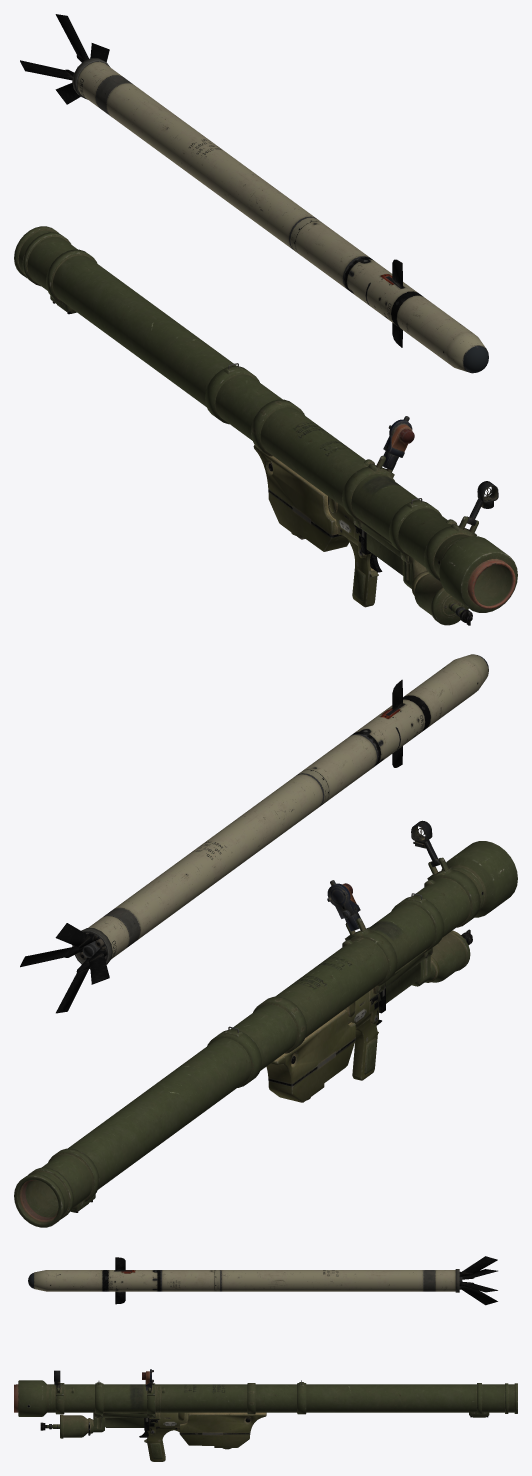
Rendered from 9K32 Strela missile launcher.fbx.
The picture shows the model from 3 angles, top to bottom: view 1: azimuth 30°, elevation 25°; view 2: azimuth 150°, elevation 25°; view 3: azimuth 270°, elevation 25°; orthographic projection. The views are drawn at different scales.
Visible parts, largest first — view 1: desirefx.me_001, desirefx.me_012, desirefx.me_003; view 2: desirefx.me_001, desirefx.me_012, desirefx.me_003, desirefx.me_004; view 3: desirefx.me_001, desirefx.me_012, desirefx.me_005, desirefx.me_007.
Part boxes in pixels (<box>): desirefx.me_001: <box>14,226,517,625</box>; desirefx.me_012: <box>72,58,488,373</box>; desirefx.me_003: <box>380,416,414,470</box>; desirefx.me_001: <box>14,841,517,1227</box>; desirefx.me_012: <box>72,654,488,968</box>; desirefx.me_003: <box>327,880,361,931</box>; desirefx.me_004: <box>411,820,444,867</box>; desirefx.me_001: <box>14,1380,517,1461</box>; desirefx.me_012: <box>34,1269,462,1292</box>; desirefx.me_005: <box>459,1256,497,1276</box>; desirefx.me_007: <box>459,1286,497,1305</box>.
Bounding box in the file's own units: 1.96 × 8.18 × 18.26.
3 materials, 3 textured.
